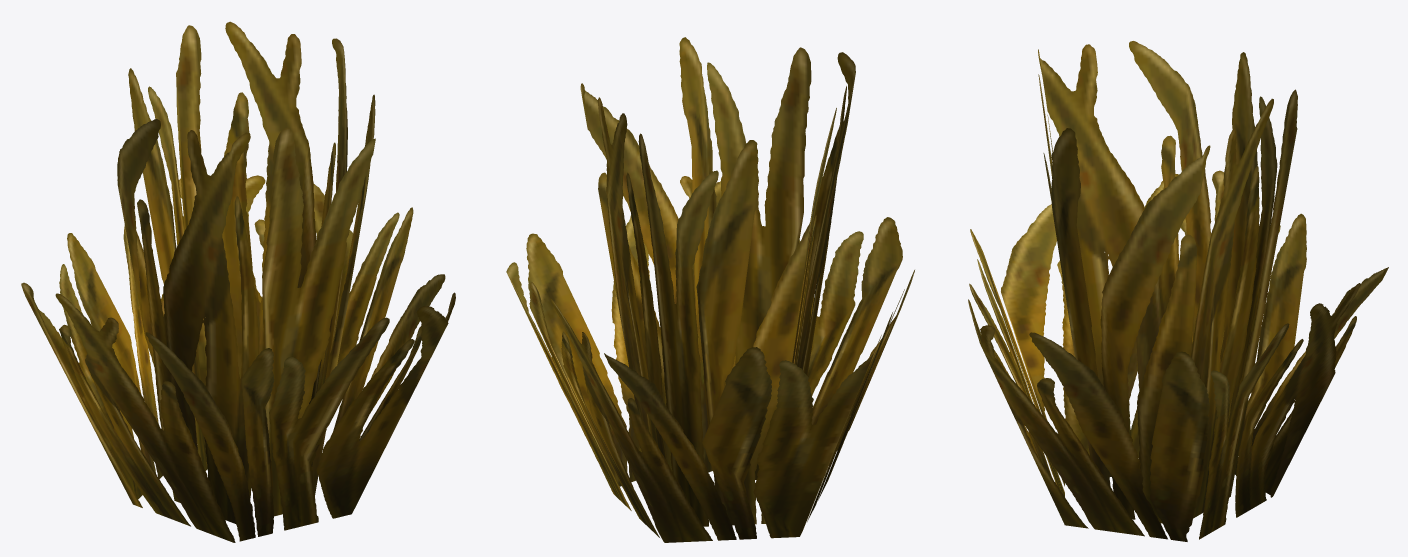
Rendered from wetlandgrass03.obj.
The picture shows the model from 3 angles, left to right: view 1: azimuth 30°, elevation 25°; view 2: azimuth 150°, elevation 25°; view 3: azimuth 270°, elevation 25°; orthographic projection.
Bounding box in the file's own units: 0.8968 × 0.9324 × 0.8529.
1 material, 1 textured.
